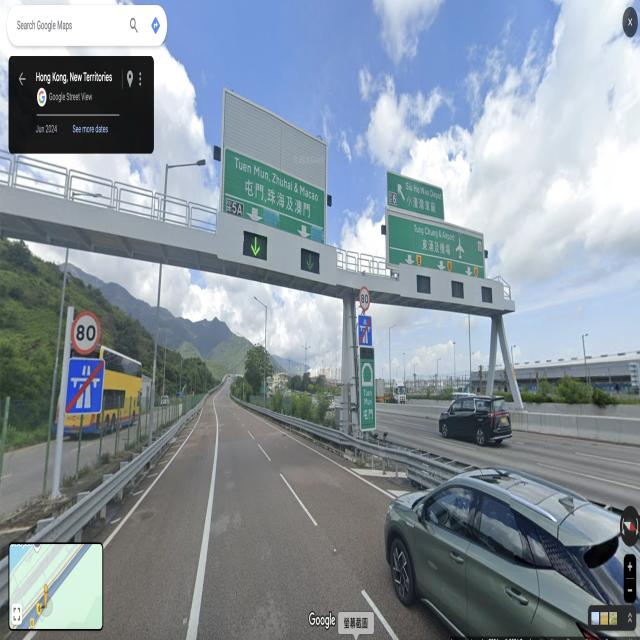Direction-Sign: (221, 148, 326, 244), (389, 215, 485, 276), (388, 172, 445, 220), (70, 360, 102, 414), (360, 359, 375, 428), (359, 315, 372, 347)
Order-Sign: (71, 310, 100, 354), (360, 286, 370, 310)
